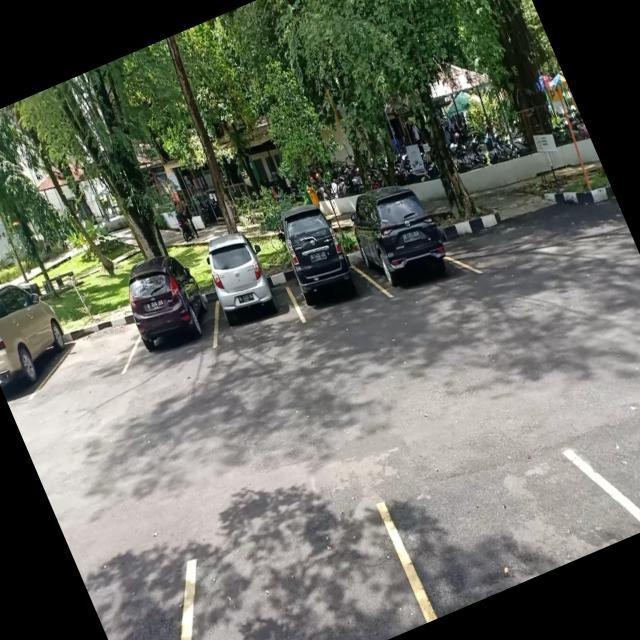empty: (35, 300, 148, 399)
occupied: (344, 186, 462, 307), (196, 242, 305, 354), (115, 269, 225, 376), (272, 224, 375, 327), (0, 301, 81, 405)
